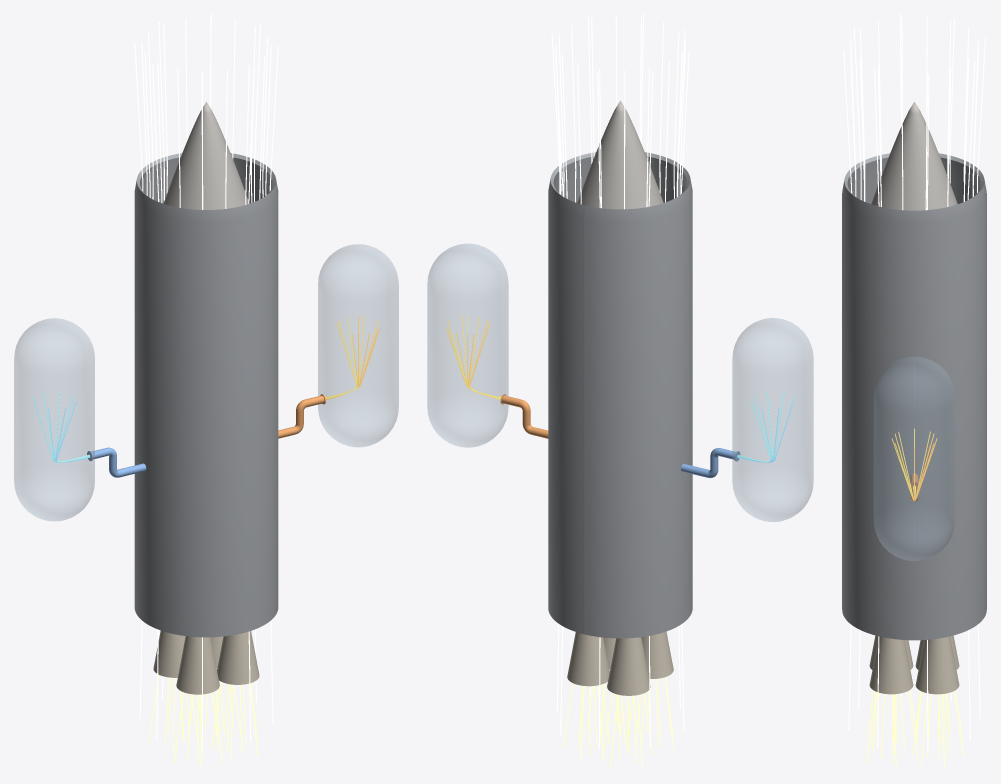
File: air-breathing_d.glb
3 views of the same model, side by side, from view 1: azimuth 30°, elevation 25°; view 2: azimuth 150°, elevation 25°; view 3: azimuth 270°, elevation 25° (orthographic).
Visible parts, largest first — view 1: AB_NacelleUpper, AB_NacelleLower, AB_TankOxidizer, AB_TankFuel, AB_FLOW_Air, AB_IntakeCone, AB_ThrustChambers, AB_FLOW_HotGas, AB_FLOW_Oxidizer, AB_FeedLineOxidizer; view 2: AB_NacelleUpper, AB_NacelleLower, AB_TankOxidizer, AB_TankFuel, AB_FLOW_Air, AB_ThrustChambers, AB_IntakeCone, AB_FLOW_HotGas, AB_FLOW_Oxidizer, AB_FeedLineOxidizer; view 3: AB_NacelleLower, AB_TankFuel, AB_FLOW_Air, AB_IntakeCone, AB_ThrustChambers, AB_NacelleUpper, AB_FLOW_HotGas, AB_FLOW_HydrogenRocket, AB_FLOW_Hydrogen.
Part boxes in pixels (box(x1,y1,x2,y2)): AB_NacelleUpper: box(134, 155, 242, 637); AB_NacelleLower: box(171, 153, 278, 633); AB_TankOxidizer: box(14, 318, 94, 520); AB_TankFuel: box(318, 244, 398, 446); AB_FLOW_Air: box(134, 14, 278, 749); AB_IntakeCone: box(163, 102, 248, 209); AB_ThrustChambers: box(153, 630, 259, 694); AB_FLOW_HotGas: box(148, 668, 258, 769); AB_FLOW_Oxidizer: box(32, 390, 90, 462); AB_FeedLineOxidizer: box(87, 447, 146, 477); AB_NacelleUpper: box(584, 154, 692, 638); AB_NacelleLower: box(548, 152, 655, 633); AB_TankOxidizer: box(732, 318, 813, 521); AB_TankFuel: box(427, 244, 508, 447); AB_FLOW_Air: box(551, 14, 689, 749); AB_ThrustChambers: box(567, 631, 673, 695); AB_IntakeCone: box(577, 100, 663, 209); AB_FLOW_HotGas: box(563, 677, 673, 769); AB_FLOW_Oxidizer: box(737, 390, 795, 462); AB_FeedLineOxidizer: box(681, 448, 740, 478); AB_NacelleLower: box(842, 181, 986, 640); AB_TankFuel: box(874, 356, 954, 560); AB_FLOW_Air: box(843, 14, 985, 752); AB_IntakeCone: box(871, 102, 957, 210); AB_ThrustChambers: box(869, 635, 959, 694); AB_NacelleUpper: box(842, 153, 986, 203); AB_FLOW_HotGas: box(866, 690, 963, 769); AB_FLOW_HydrogenRocket: box(891, 431, 937, 500); AB_FLOW_Hydrogen: box(894, 428, 934, 499).
Size of the model in its own units: 4.8 by 8.6 by 1.6.
